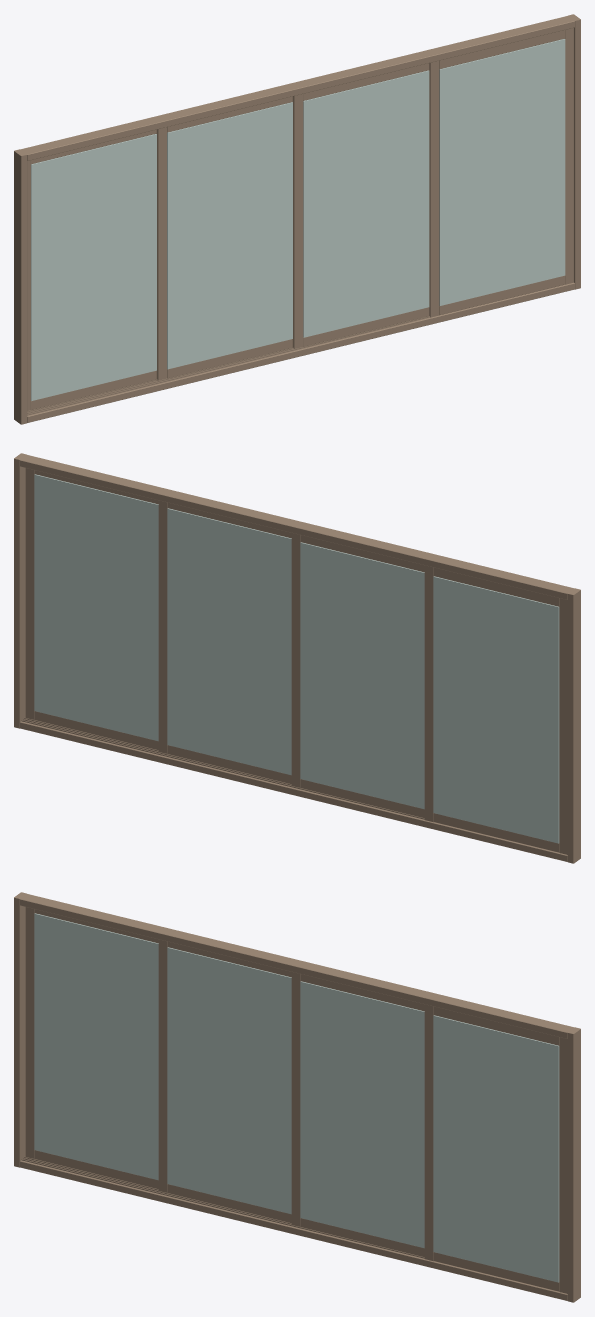
File: co-S110P-4-quartz-1019.glb
3 renders of one model, top to bottom at view 1: azimuth 30°, elevation 25°; view 2: azimuth 150°, elevation 25°; view 3: azimuth 330°, elevation 25°, orthographic.
Visible parts, largest first — view 1: verre, structure; view 2: verre, structure; view 3: verre, structure.
Boxes of the visible parts, bbox=[...] form: verre: bbox=[31, 39, 565, 400]; structure: bbox=[14, 14, 580, 424]; verre: bbox=[34, 474, 559, 843]; structure: bbox=[14, 453, 580, 863]; verre: bbox=[34, 913, 559, 1282]; structure: bbox=[14, 892, 580, 1302].
Size of the model in its own units: 4.8 by 2.2 by 0.11.
